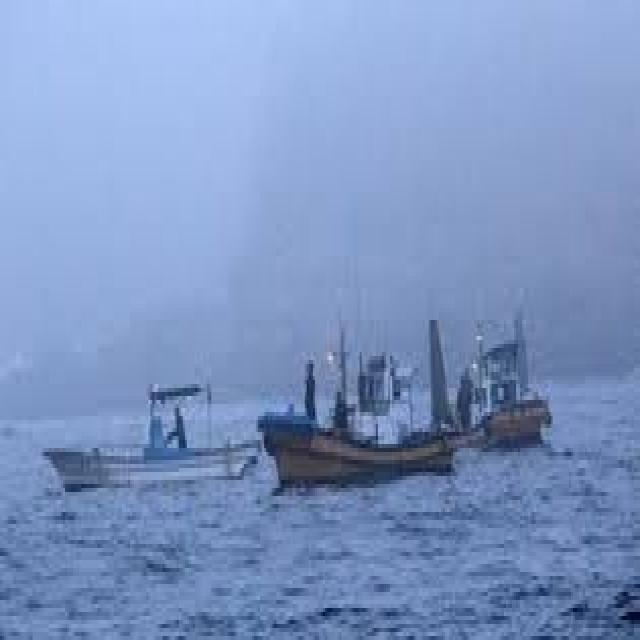Ship: (255, 321, 481, 517), (32, 357, 272, 517)
